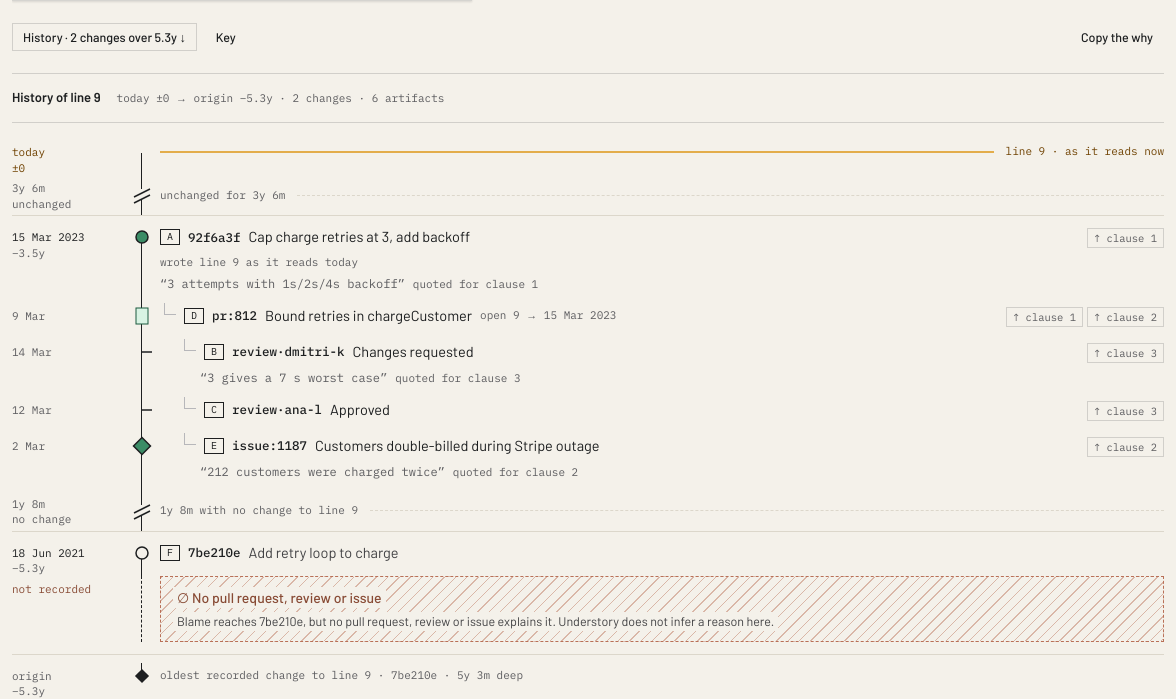
Test: LineInvestigation — evidence in place › opens a history row in place with its source, context and actions
This screenshot has width=1176, height=699.
(page scrolled)
Click the button "F 7be210e Add retry loop to charge".
click(279, 553)  # box [160, 540, 398, 566]
(page scrolled)
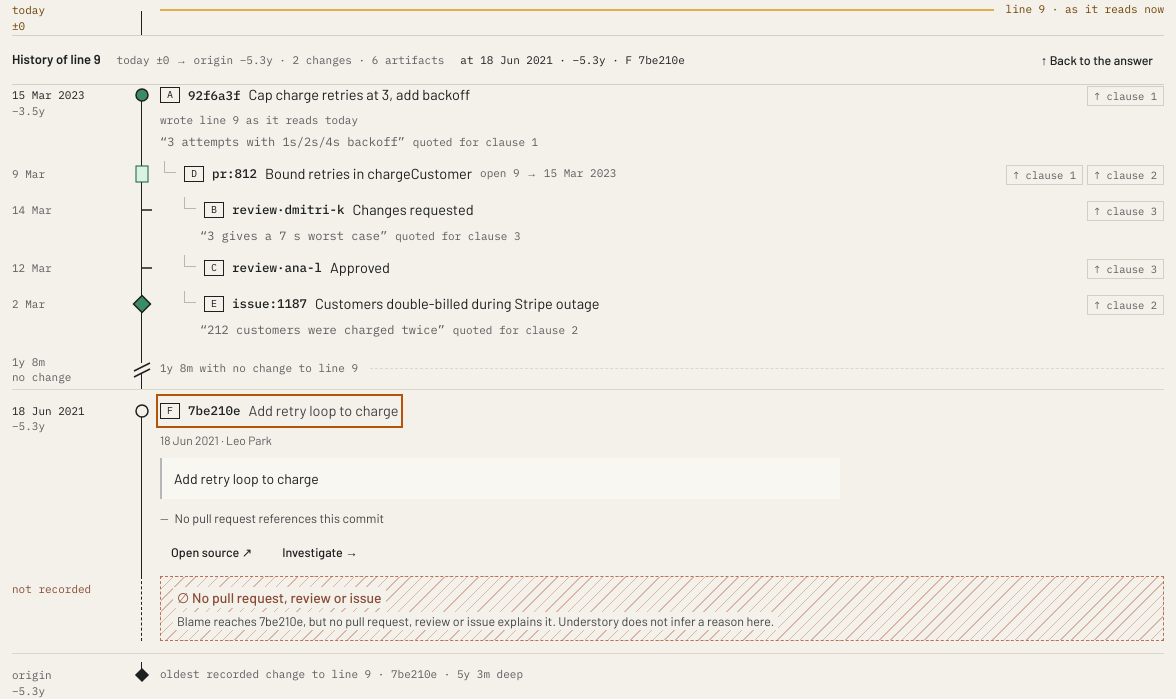
Expected: the button "F 7be210e Add retry loop to charge" is expanded, [160, 398, 398, 424]
Expected: the list item "No pull request references this commit" is shown, [175, 510, 384, 526]
Expected: the button "Investigate →" is shown, [271, 538, 369, 566]
